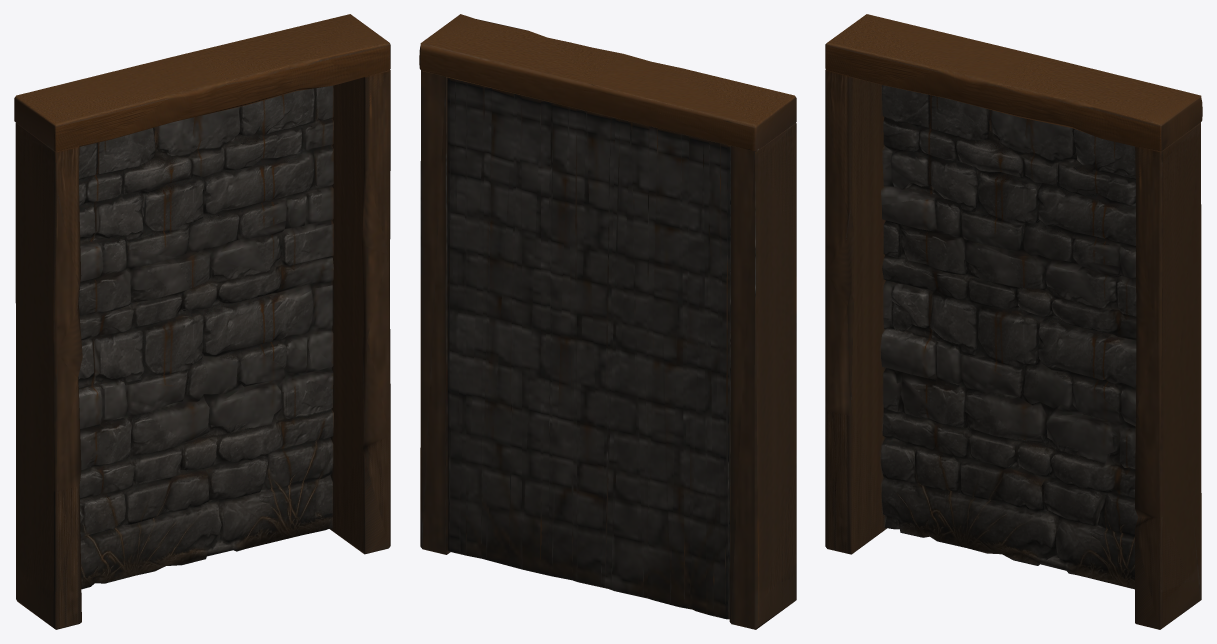
Rendered from Dungeon wall (tex_dungeon_wall).glb.
The picture shows the model from 3 angles, left to right: view 1: azimuth 30°, elevation 25°; view 2: azimuth 150°, elevation 25°; view 3: azimuth 330°, elevation 25°; orthographic projection.
Bounding box in the file's own units: 0.6636 × 0.9531 × 0.1436.
1 material, 1 textured.
